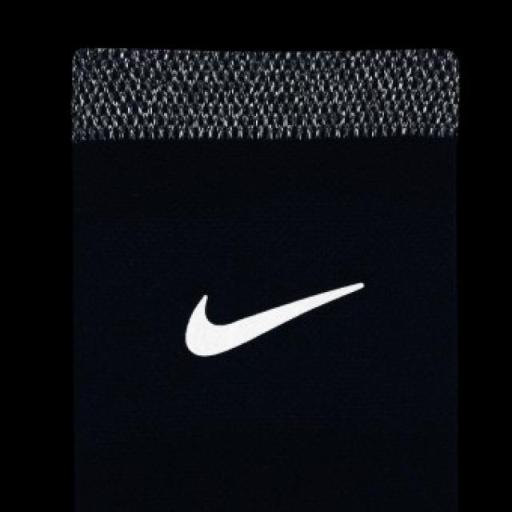Nike: (178, 276, 370, 358)
